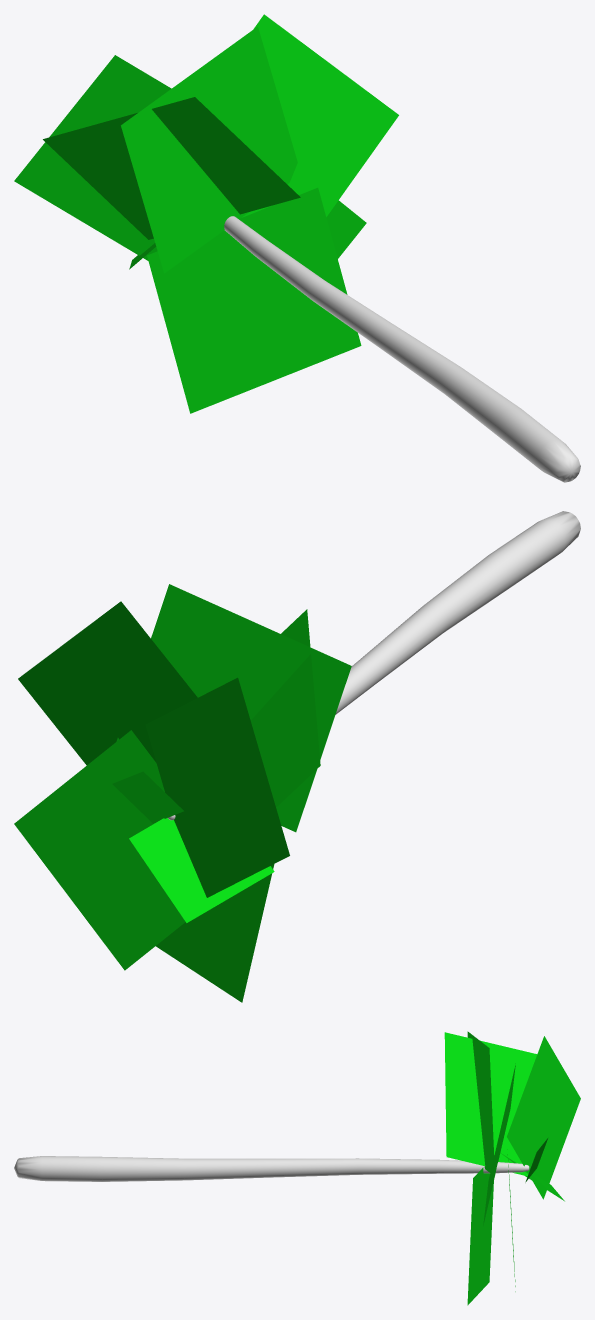
File: Palmtree2.fbx
3 views of the same model, one above another, from view 1: azimuth 30°, elevation 25°; view 2: azimuth 150°, elevation 25°; view 3: azimuth 270°, elevation 25° (orthographic). The views are drawn at different scales.
Parts seen in each view (by area): view 1: Plane.005, Plane.007, Plane.004, Plane.006, Cylinder, Plane.001, Plane.003; view 2: Plane.003, Plane.001, Plane.004, Plane.007, Cylinder, Plane.006, Plane.005, Plane.002, Plane; view 3: Cylinder, Plane.006, Plane.001, Plane.005, Plane.007, Plane.004.
Boxes of the visible parts, x1=… form: Plane.005: x1=147, y1=187, x2=361, y2=413; Plane.007: x1=121, y1=26, x2=297, y2=273; Plane.004: x1=242, y1=14, x2=398, y2=217; Plane.006: x1=43, y1=97, x2=300, y2=239; Cylinder: x1=224, y1=216, x2=580, y2=482; Plane.001: x1=14, y1=55, x2=171, y2=260; Plane.003: x1=326, y1=200, x2=366, y2=258; Plane.003: x1=14, y1=730, x2=185, y2=970; Plane.001: x1=145, y1=677, x2=289, y2=897; Plane.004: x1=18, y1=601, x2=197, y2=765; Plane.007: x1=116, y1=584, x2=351, y2=832; Cylinder: x1=168, y1=511, x2=580, y2=820; Plane.006: x1=251, y1=609, x2=320, y2=807; Plane.005: x1=156, y1=864, x2=274, y2=1002; Plane.002: x1=129, y1=818, x2=274, y2=922; Plane: x1=112, y1=771, x2=183, y2=823; Cylinder: x1=14, y1=1156, x2=529, y2=1181; Plane.006: x1=444, y1=1032, x2=537, y2=1176; Plane.001: x1=507, y1=1036, x2=580, y2=1199; Plane.005: x1=467, y1=1167, x2=493, y2=1305; Plane.007: x1=467, y1=1031, x2=494, y2=1176; Plane.004: x1=483, y1=1063, x2=515, y2=1225.
Size of the model in its own units: 10560 by 11752 by 23490.
